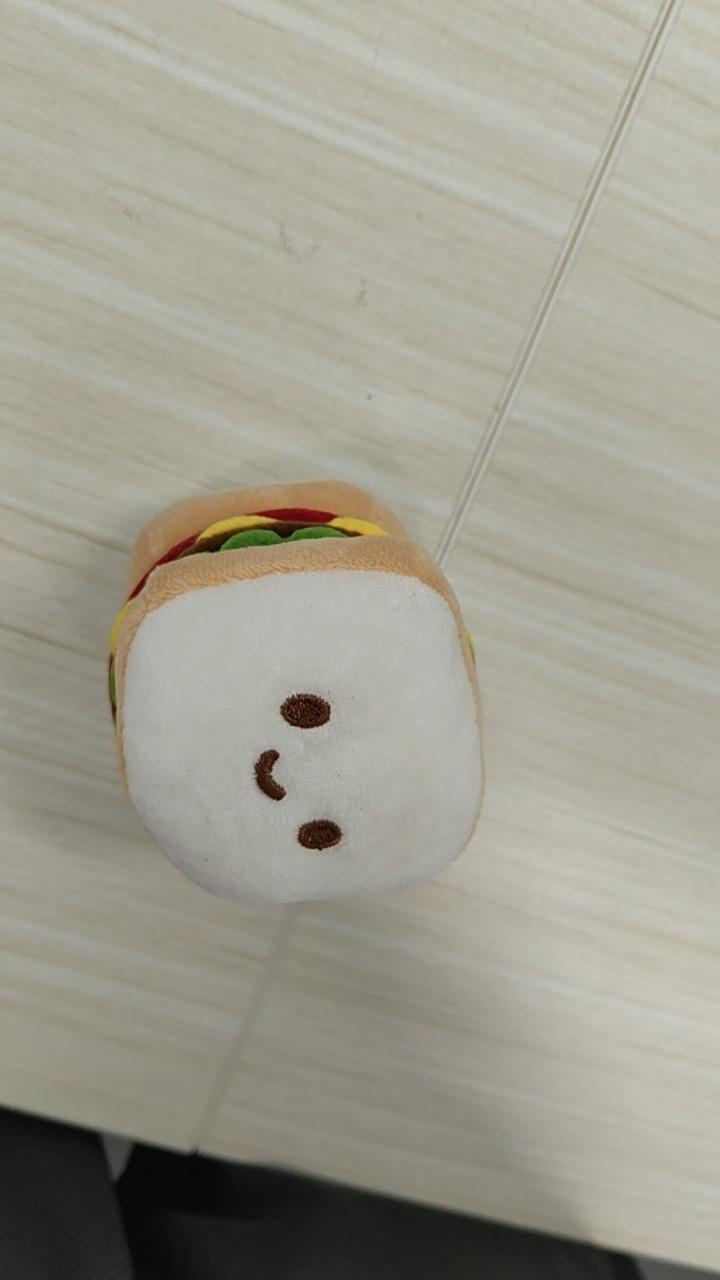objects: (105, 478, 487, 905)
